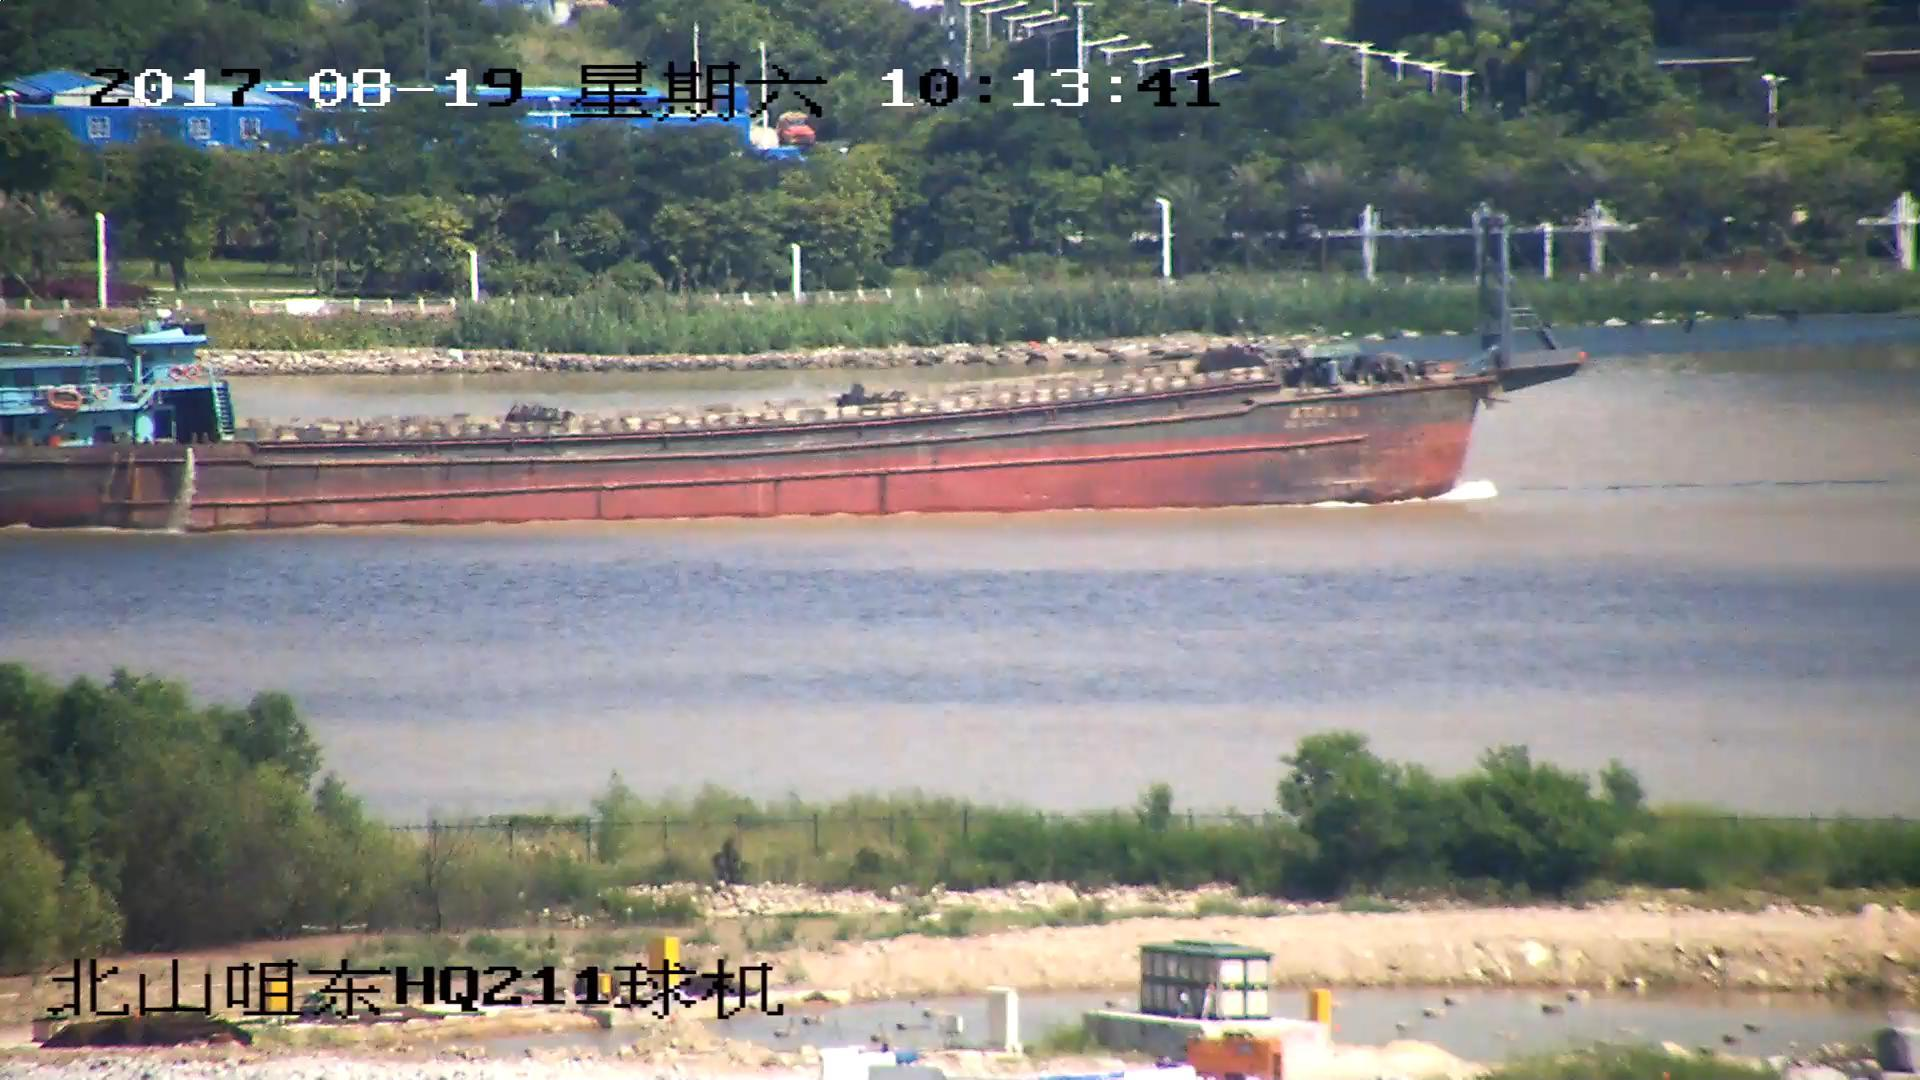Ship: (3, 200, 1920, 535)
